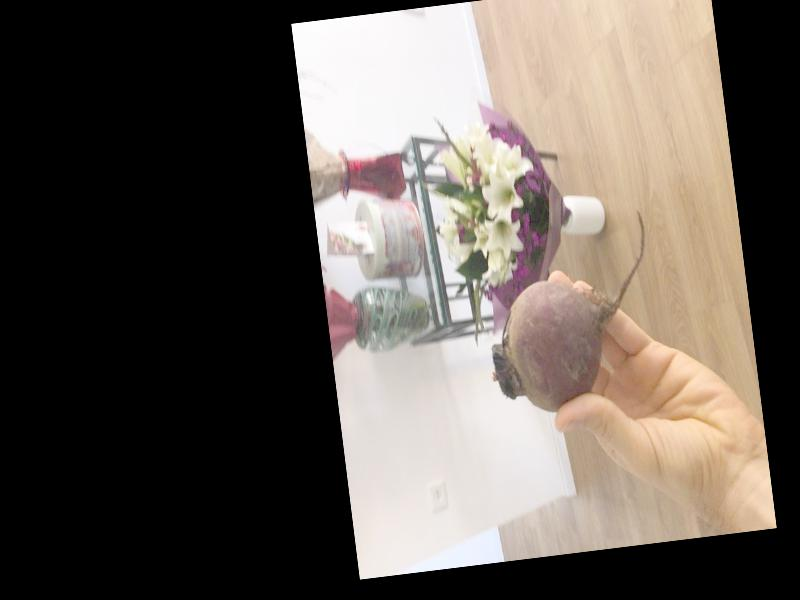Beet: (475, 206, 664, 418)
